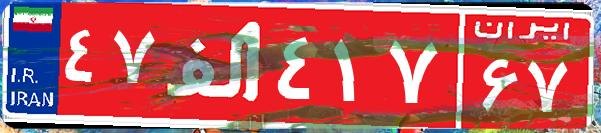1: (330, 28, 385, 110)
4: (273, 28, 330, 110), (57, 26, 110, 107)
6: (475, 38, 525, 113)
7: (385, 28, 445, 110), (110, 28, 158, 105), (525, 38, 570, 115)
الف: (158, 15, 273, 115)
